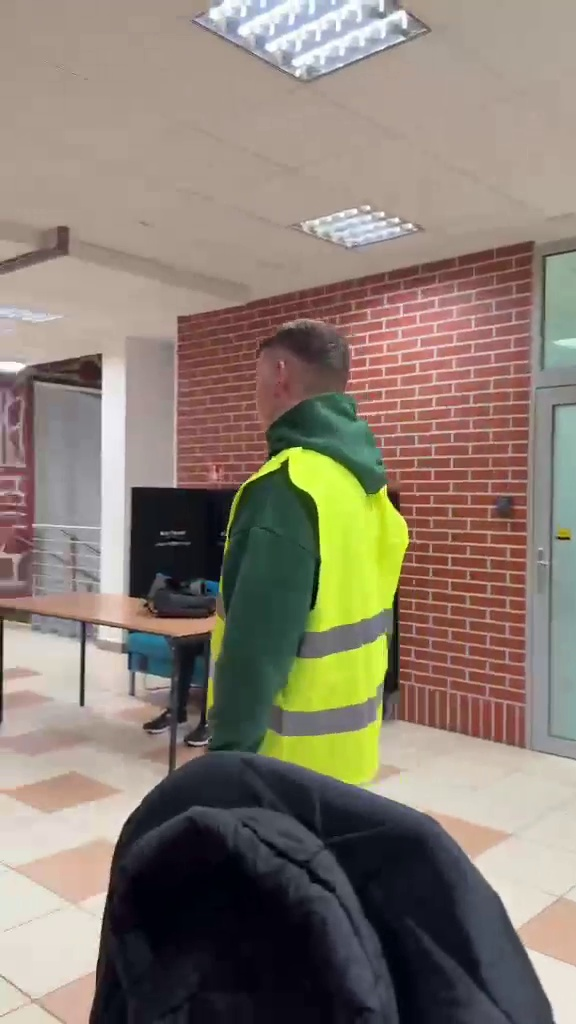vest: (209, 312, 414, 779)
